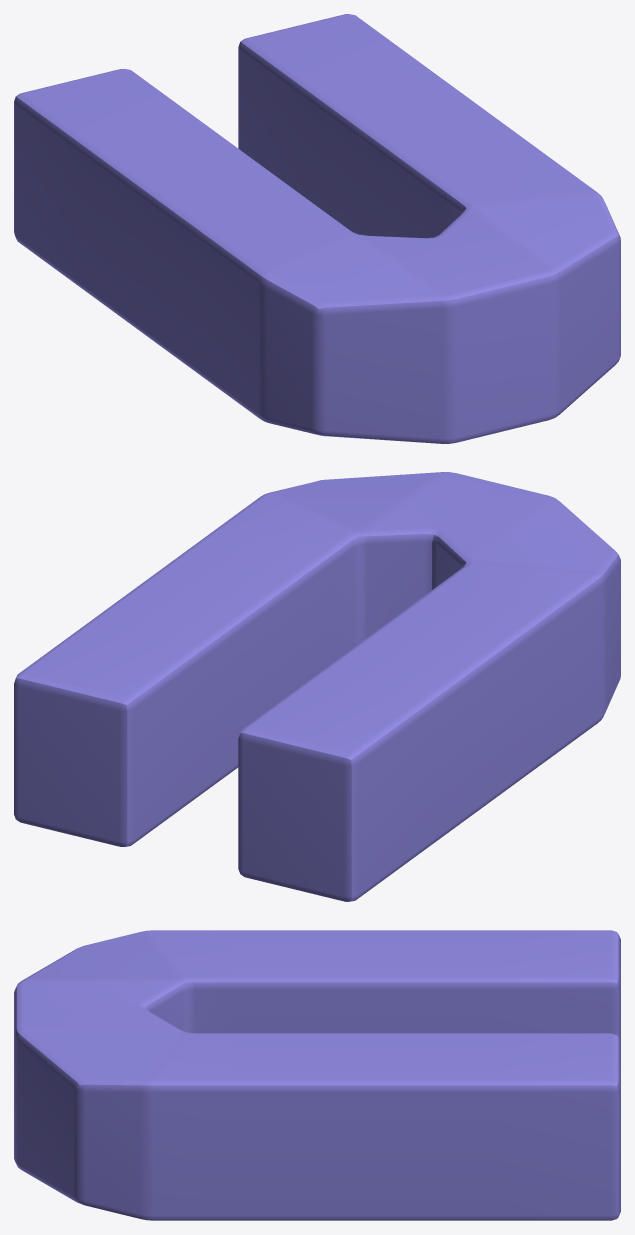
3 renders of one model, top to bottom at view 1: azimuth 30°, elevation 25°; view 2: azimuth 150°, elevation 25°; view 3: azimuth 270°, elevation 25°, orthographic. The views are drawn at different scales.
Parts seen in each view (by area): view 1: pasted__pasted__pasted__pCube2; view 2: pasted__pasted__pasted__pCube2; view 3: pasted__pasted__pasted__pCube2.
Part boxes in pixels (box(x1,y1,x2,y2)): pasted__pasted__pasted__pCube2: box(14, 14, 620, 443); pasted__pasted__pasted__pCube2: box(14, 472, 620, 901); pasted__pasted__pasted__pCube2: box(14, 930, 620, 1220).
Bounding box in the file's own units: 2.45 × 1.02 × 3.99.
